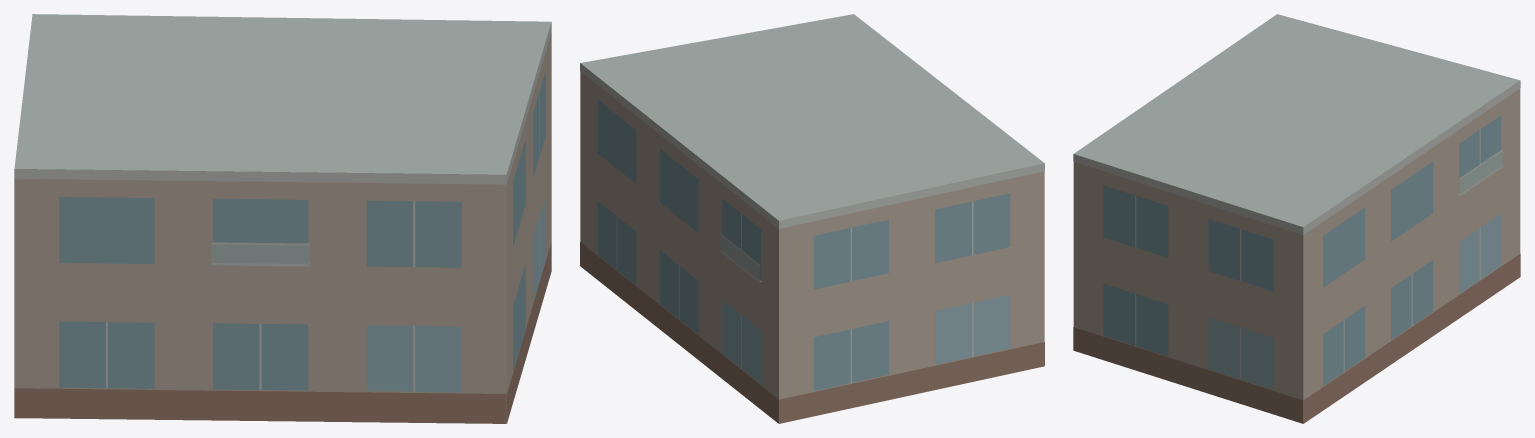
Rendered from survey-upis-32795382.glb.
The picture shows the model from 3 angles, left to right: view 1: azimuth 30°, elevation 25°; view 2: azimuth 150°, elevation 25°; view 3: azimuth 270°, elevation 25°; orthographic projection. The views are drawn at different scales.
Visible parts, largest first — view 1: survey-upis-32795382.tmp; view 2: survey-upis-32795382.tmp; view 3: survey-upis-32795382.tmp.
Part boxes in pixels (x1,y1,x2,y2): survey-upis-32795382.tmp: [14, 14, 551, 423]; survey-upis-32795382.tmp: [580, 14, 1044, 423]; survey-upis-32795382.tmp: [1073, 14, 1520, 423].
Size of the model in its own units: 14.19 by 6.1 by 12.57.
